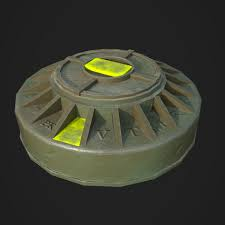car: (10, 31, 212, 195)
